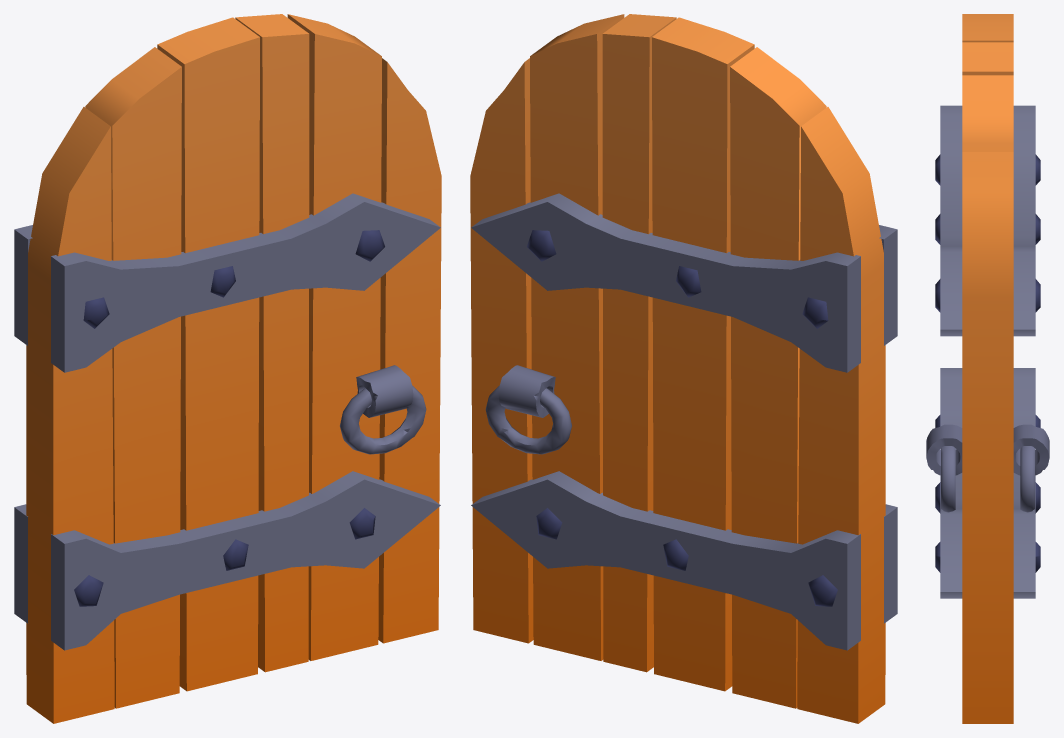
File: Gate_Wooden_01.glb
3 views of the same model, side by side, from view 1: azimuth 30°, elevation 25°; view 2: azimuth 150°, elevation 25°; view 3: azimuth 270°, elevation 25° (orthographic). The views are drawn at different scales.
Visible parts, largest first — view 1: Gate_Wooden_01; view 2: Gate_Wooden_01; view 3: Gate_Wooden_01.
Part boxes in pixels (box(x1,y1,x2,y2)): Gate_Wooden_01: box(14, 14, 441, 723); Gate_Wooden_01: box(470, 14, 897, 723); Gate_Wooden_01: box(926, 14, 1049, 723).
Size of the model in its own units: 1.92 by 3 by 0.5578.
Materials: 1 (1 with a texture image).
